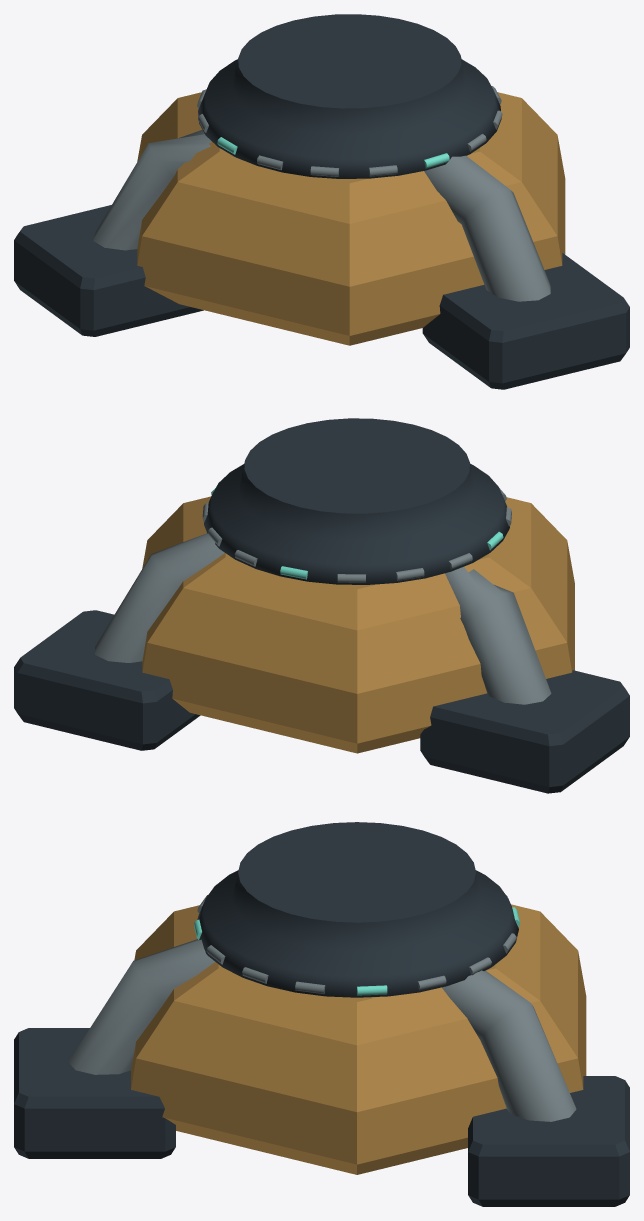
The model's file is mount_kharon.glb.
3 renders of one model, top to bottom at view 1: azimuth 30°, elevation 25°; view 2: azimuth 150°, elevation 25°; view 3: azimuth 270°, elevation 25°, orthographic. The views are drawn at different scales.
Parts seen in each view (by area): view 1: mount_kharon; view 2: mount_kharon; view 3: mount_kharon.
Boxes of the visible parts, left/top/right/bottom form: mount_kharon: left=14, top=14, right=629, bottom=389; mount_kharon: left=14, top=418, right=629, bottom=793; mount_kharon: left=14, top=822, right=629, bottom=1206.
Bounding box in the file's own units: 6.27 × 2.6 × 6.47.
